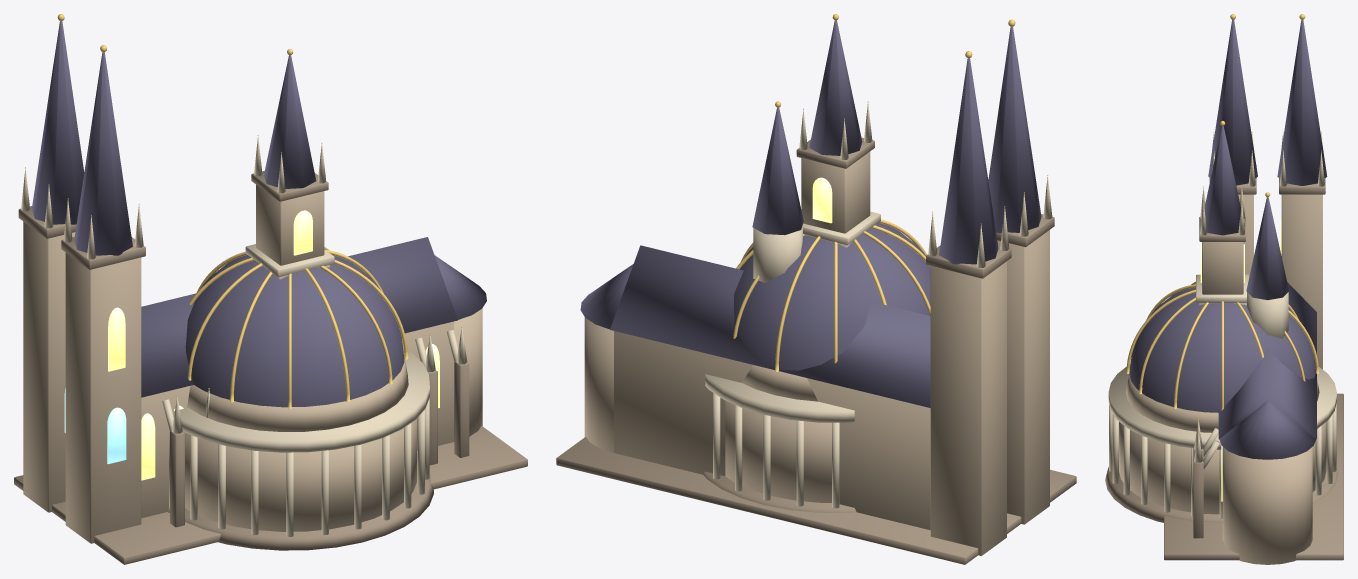
The model's file is domecity.glb.
3 views of the same model, side by side, from view 1: azimuth 30°, elevation 25°; view 2: azimuth 150°, elevation 25°; view 3: azimuth 270°, elevation 25° (orthographic). The views are drawn at different scales.
Parts seen in each view (by area): view 1: DC_Cathedral, DC_Rotunda, DC_Tower; view 2: DC_Cathedral, DC_Rotunda, DC_Tower; view 3: DC_Cathedral, DC_Rotunda, DC_Tower.
Part boxes in pixels (x1,y1,x2,y2): DC_Cathedral: [14, 14, 527, 564]; DC_Rotunda: [167, 247, 433, 550]; DC_Tower: [245, 49, 334, 279]; DC_Cathedral: [556, 19, 1076, 564]; DC_Rotunda: [703, 219, 930, 512]; DC_Tower: [796, 14, 880, 247]; DC_Cathedral: [1164, 14, 1343, 564]; DC_Rotunda: [1105, 281, 1337, 522]; DC_Tower: [1196, 120, 1249, 305].
Size of the model in its own units: 116 by 126 by 69.
